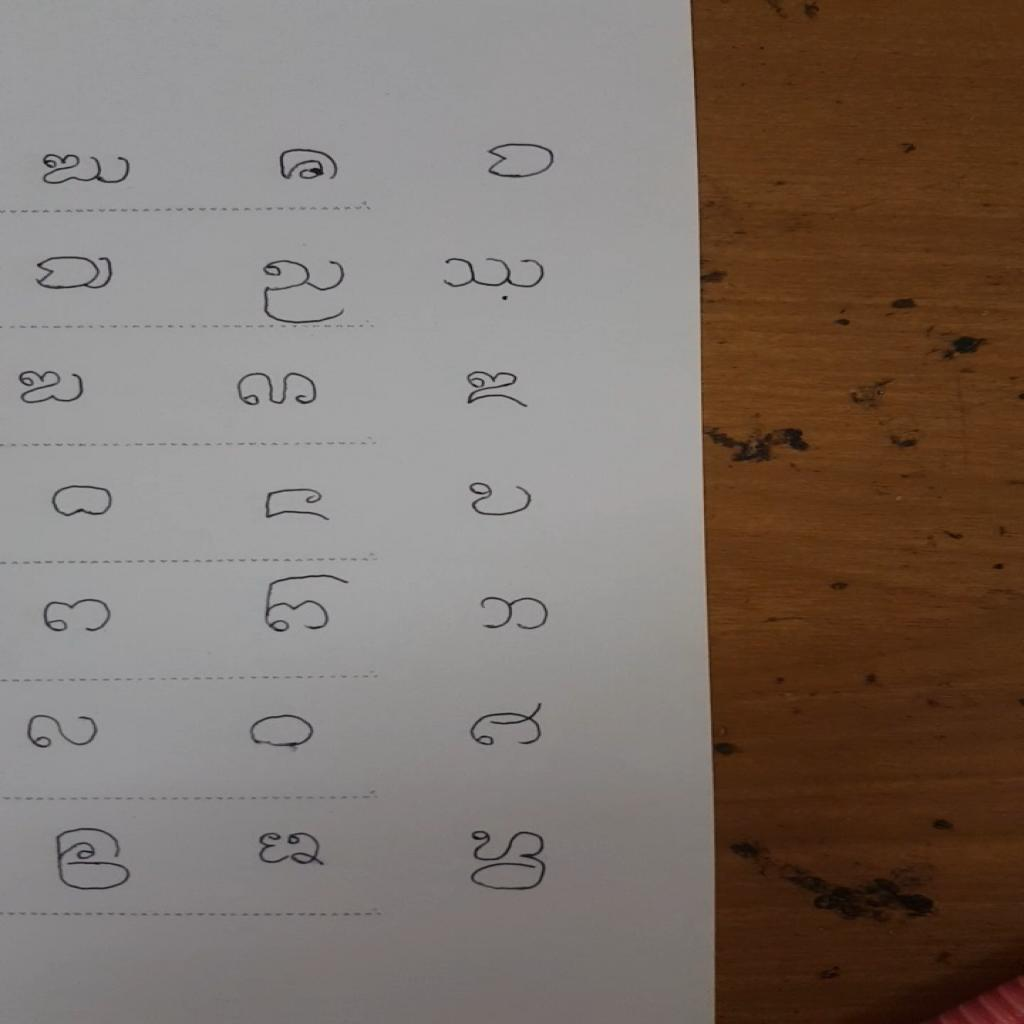LN004: (33, 148, 138, 192)
LN005: (273, 146, 343, 185)
LN006: (481, 139, 562, 182)
LN010: (29, 254, 119, 293)
LN011: (257, 256, 352, 327)
LN012: (438, 254, 552, 292)
LN016: (11, 367, 90, 410)
LN017: (231, 369, 324, 411)
LN018: (458, 367, 533, 412)
LN022: (47, 483, 121, 521)
LN023: (257, 485, 335, 527)
LN024: (462, 480, 539, 521)
LN028: (37, 597, 116, 637)
LN029: (260, 572, 355, 637)
LN030: (472, 594, 556, 635)
LN034: (21, 711, 105, 753)
LN035: (243, 713, 320, 751)
LN036: (461, 699, 551, 752)
LN040: (48, 824, 137, 895)
LN041: (255, 828, 330, 874)
LN042: (465, 824, 550, 896)
